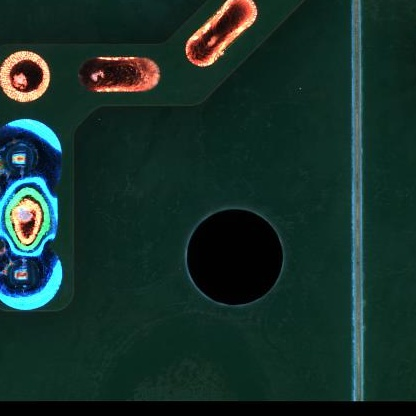spot: (1, 118, 63, 192), (1, 250, 65, 310)
